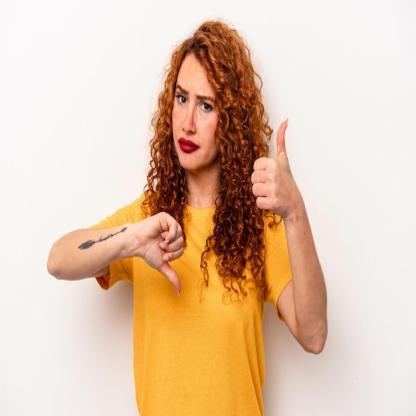thumb_down: (138, 209, 186, 298)
thumb_up: (249, 114, 296, 214)
